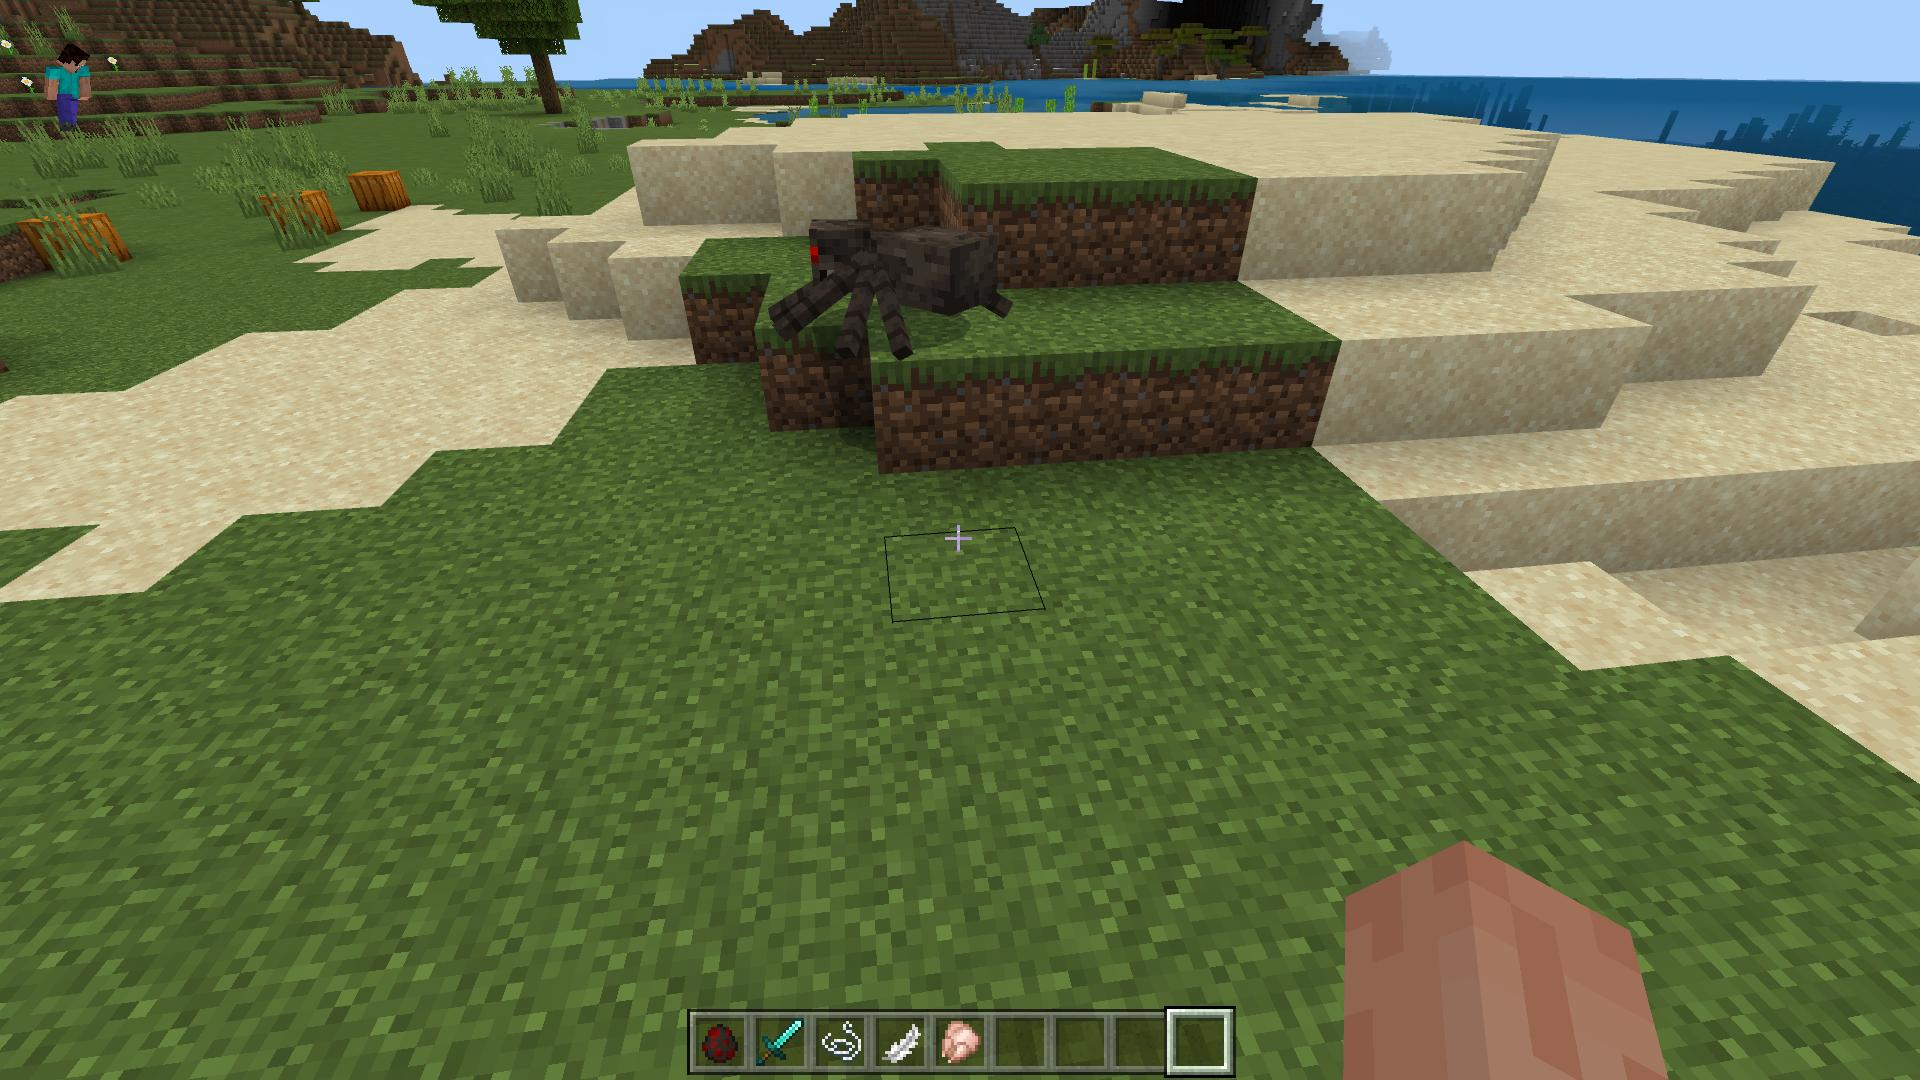spider: (767, 214, 1013, 363)
